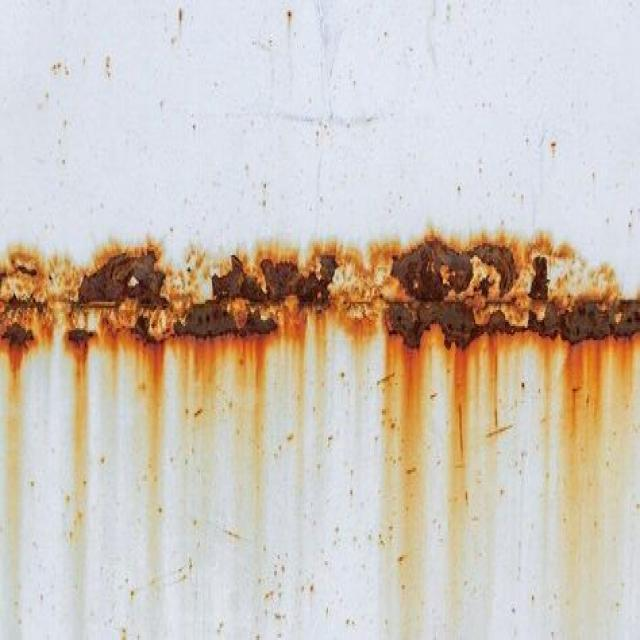Corrosion: (0, 231, 639, 639), (0, 229, 639, 353)
